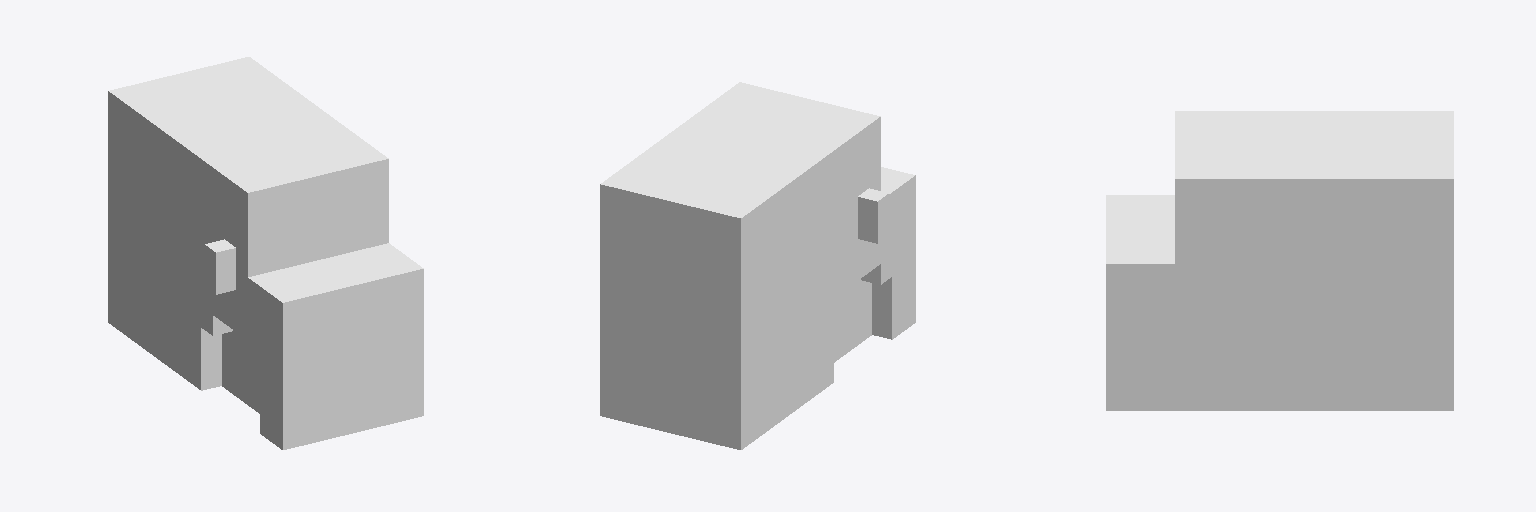
File: vanTopRight.obj
3 views of the same model, side by side, from view 1: azimuth 30°, elevation 25°; view 2: azimuth 150°, elevation 25°; view 3: azimuth 270°, elevation 25° (orthographic).
Parts seen in each view (by area): view 1: object 1; view 2: object 1; view 3: object 1.
Part boxes in pixels (x1,y1,x2,y2): object 1: (108,57,423,449); object 1: (600,82,915,449); object 1: (1106,111,1453,410).
Size of the model in its own units: 0.8 by 1.1 by 1.5.